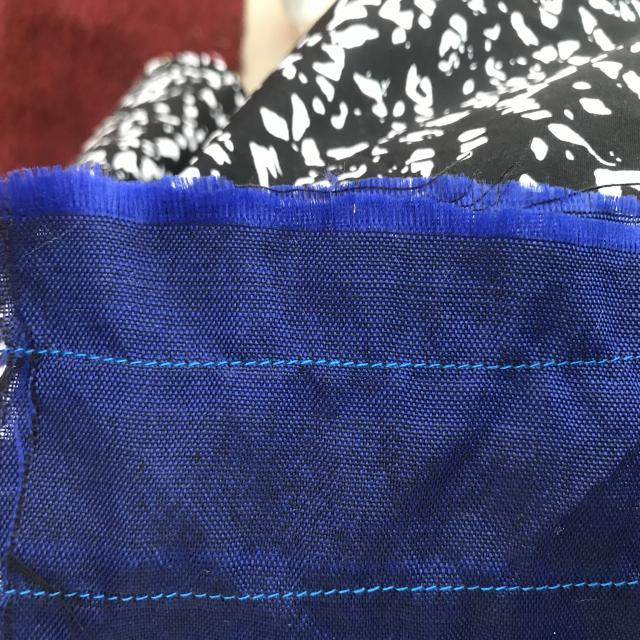good: (272, 344, 608, 387), (299, 566, 549, 616), (62, 582, 267, 626), (78, 340, 252, 390)
